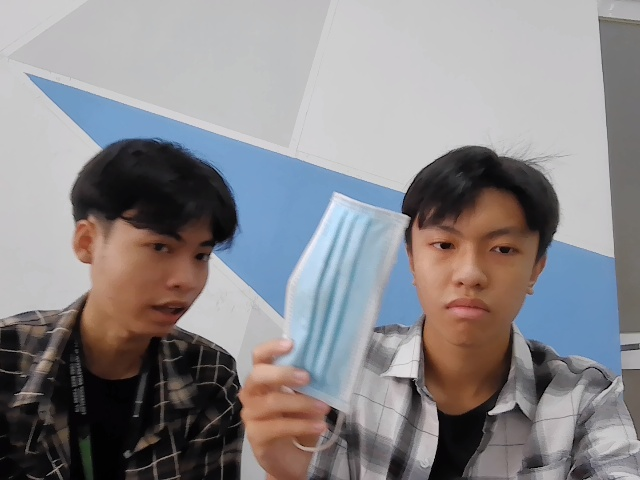human: (71, 140, 239, 343), (405, 146, 559, 348)
mask: (268, 191, 408, 415)
